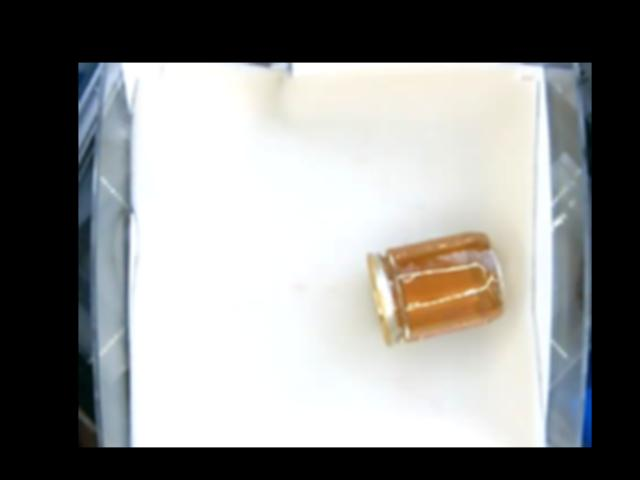Bottle: (366, 230, 504, 348)
